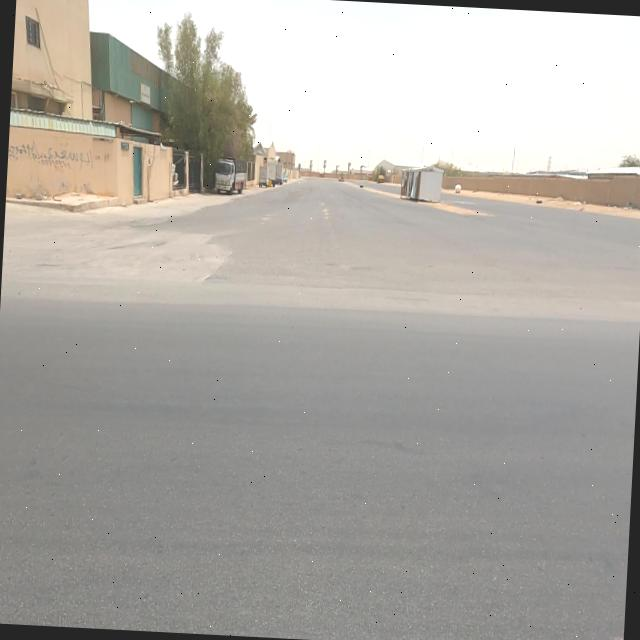Graffiti: (9, 140, 96, 175)
